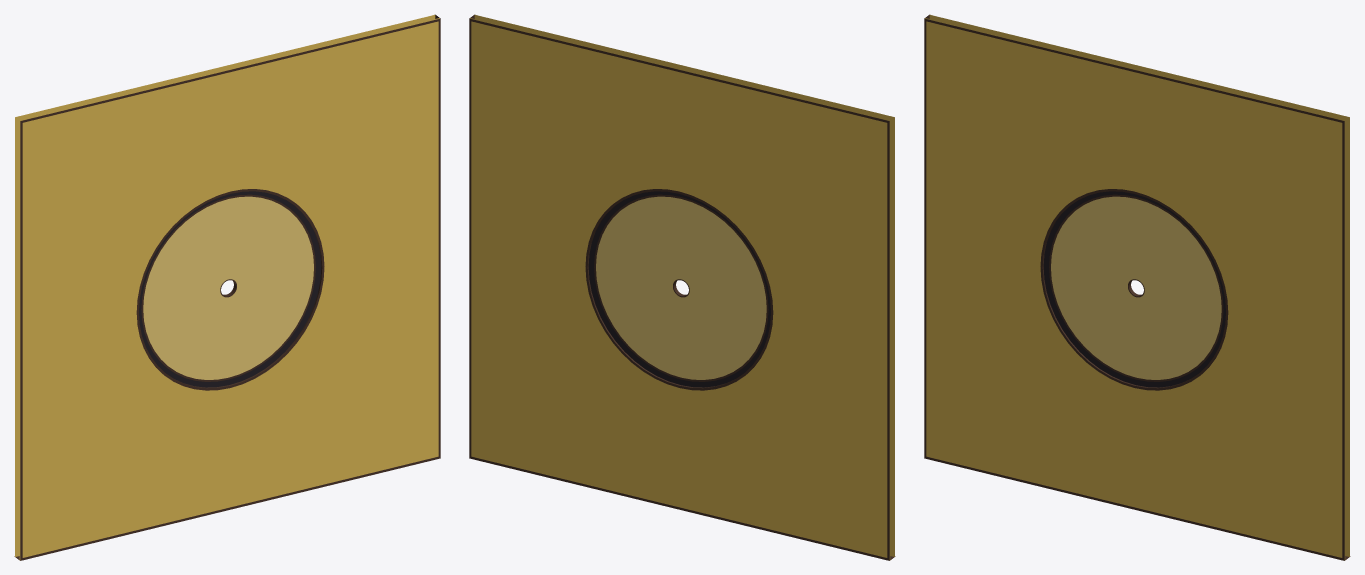
Rendered from Yellow.glb.
The picture shows the model from 3 angles, left to right: view 1: azimuth 30°, elevation 25°; view 2: azimuth 150°, elevation 25°; view 3: azimuth 330°, elevation 25°; orthographic projection.
Visible parts, largest first — view 1: Sleeve, Record; view 2: Sleeve, Record; view 3: Sleeve, Record.
Part boxes in pixels (left/top/right/bottom): Sleeve: left=14, top=14, right=440, bottom=560; Record: left=139, top=191, right=321, bottom=387; Sleeve: left=469, top=14, right=895, bottom=560; Record: left=588, top=191, right=770, bottom=387; Sleeve: left=924, top=14, right=1350, bottom=560; Record: left=1043, top=191, right=1225, bottom=387.
Size of the model in its own units: 0.188 by 0.188 by 0.0048.
